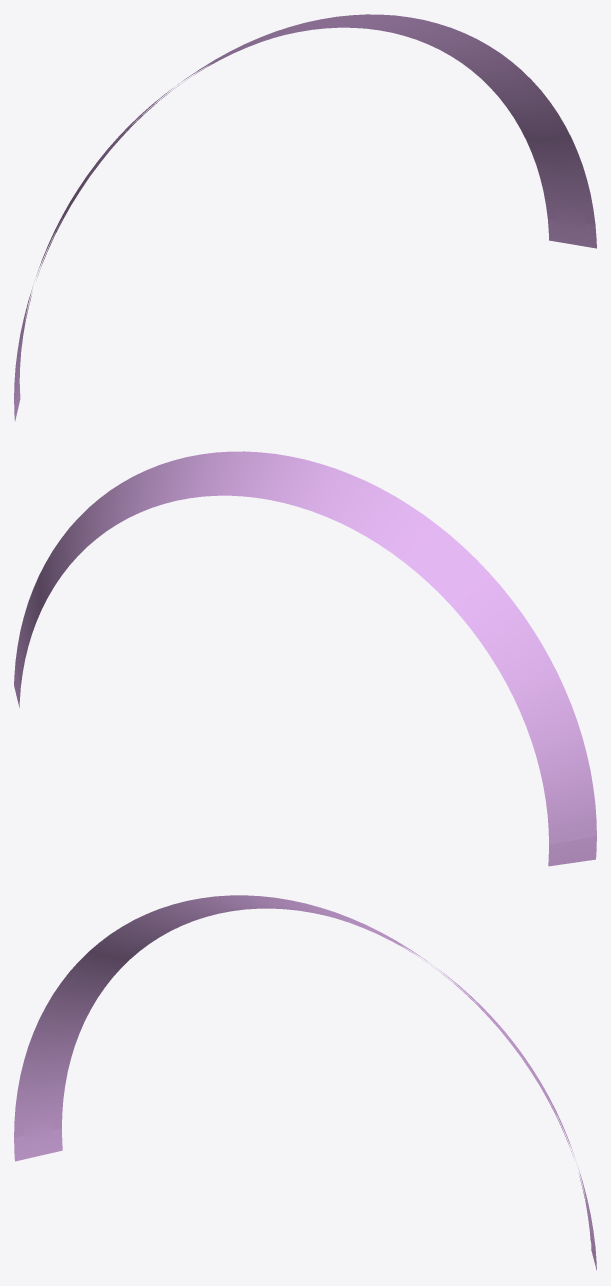
Rendered from Mesh_Note_31.fbx.
The picture shows the model from 3 angles, top to bottom: view 1: azimuth 30°, elevation 25°; view 2: azimuth 150°, elevation 25°; view 3: azimuth 330°, elevation 25°; orthographic projection.
Parts seen in each view (by area): view 1: Mesh_Note_31; view 2: Mesh_Note_31; view 3: Mesh_Note_31.
Part boxes in pixels (left/top/right/bottom): Mesh_Note_31: left=14, top=14, right=596, bottom=421; Mesh_Note_31: left=14, top=451, right=596, bottom=866; Mesh_Note_31: left=14, top=895, right=596, bottom=1270.
Size of the model in its own units: 3.56 by 1.92 by 0.2235.
